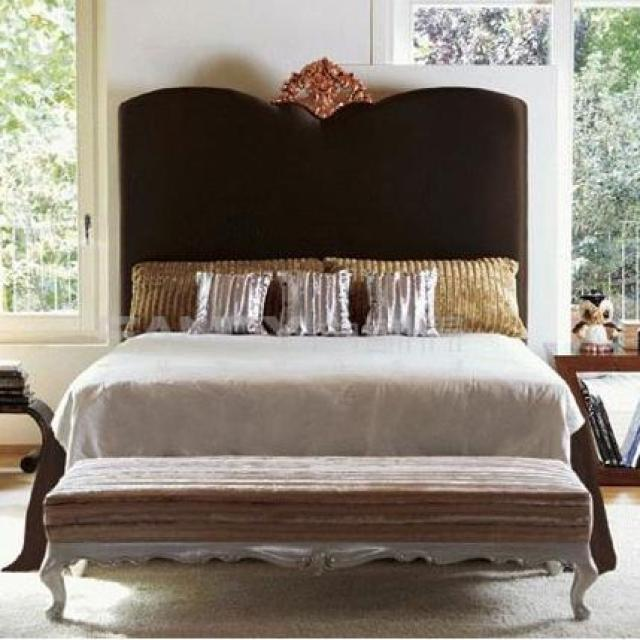bed: (48, 247, 614, 581)
